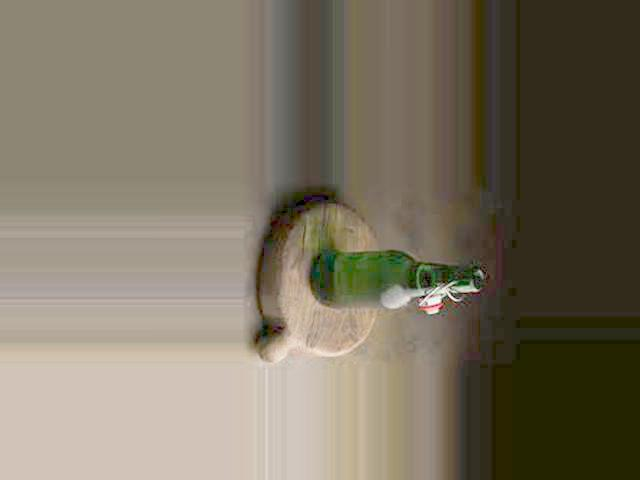beer: (313, 252, 485, 308)
